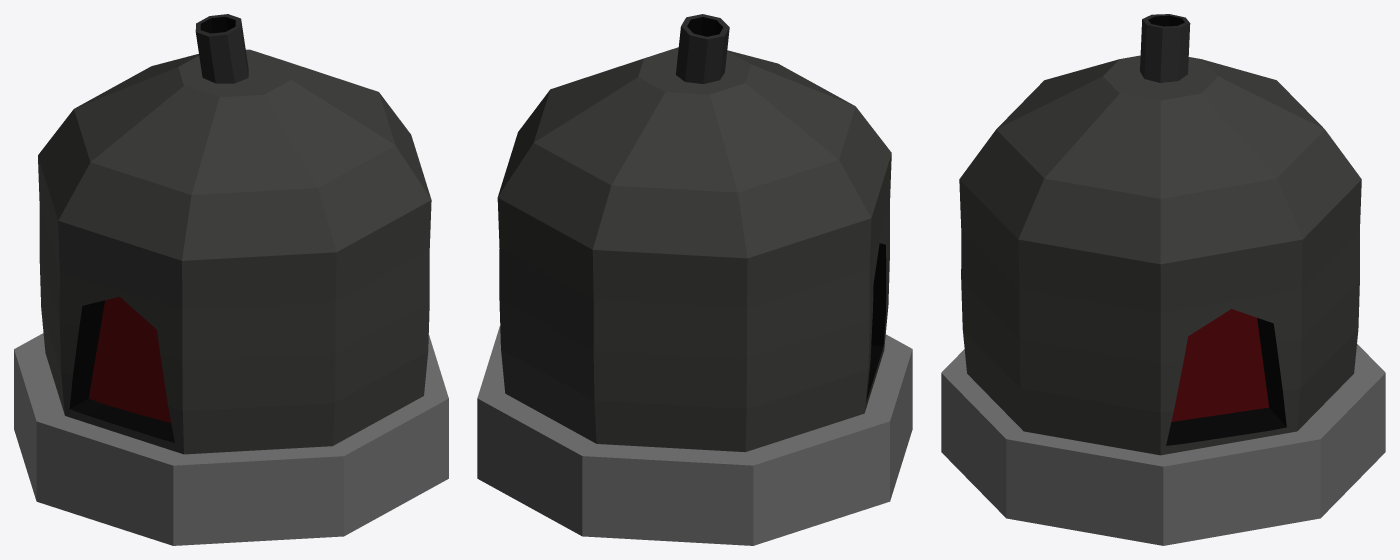
Rendered from Forge.fbx.
3 views of the same model, side by side, from view 1: azimuth 30°, elevation 25°; view 2: azimuth 150°, elevation 25°; view 3: azimuth 270°, elevation 25° (orthographic).
Visible parts, largest first — view 1: Cylinder.001, Cylinder, Cylinder.002; view 2: Cylinder.001, Cylinder, Cylinder.002; view 3: Cylinder.001, Cylinder, Cylinder.002.
Part boxes in pixels (<box>): Cylinder.001: <box>38,49,431,454</box>; Cylinder: <box>14,333,448,545</box>; Cylinder.002: <box>195,14,248,83</box>; Cylinder.001: <box>497,47,891,452</box>; Cylinder: <box>477,326,912,545</box>; Cylinder.002: <box>676,14,729,83</box>; Cylinder.001: <box>959,55,1361,455</box>; Cylinder: <box>941,344,1385,545</box>; Cylinder.002: <box>1140,14,1190,82</box>.
Size of the model in its own units: 564 by 599 by 564.
